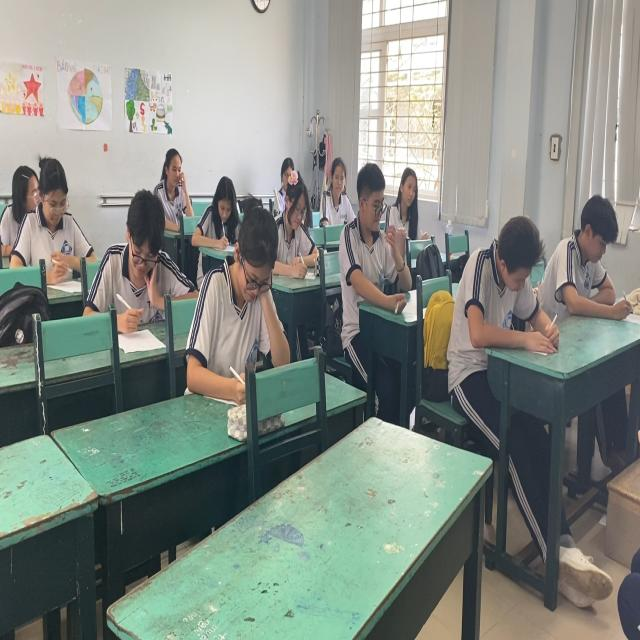not_cheating: (211, 201, 283, 379), (475, 217, 561, 359), (107, 195, 185, 326), (560, 194, 632, 320), (20, 155, 85, 276), (342, 165, 400, 294), (264, 174, 316, 264), (196, 172, 235, 254), (148, 148, 187, 224), (320, 155, 357, 231), (387, 165, 424, 237)
